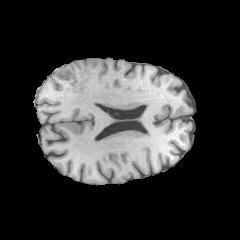glioma: (56, 65, 88, 97)
